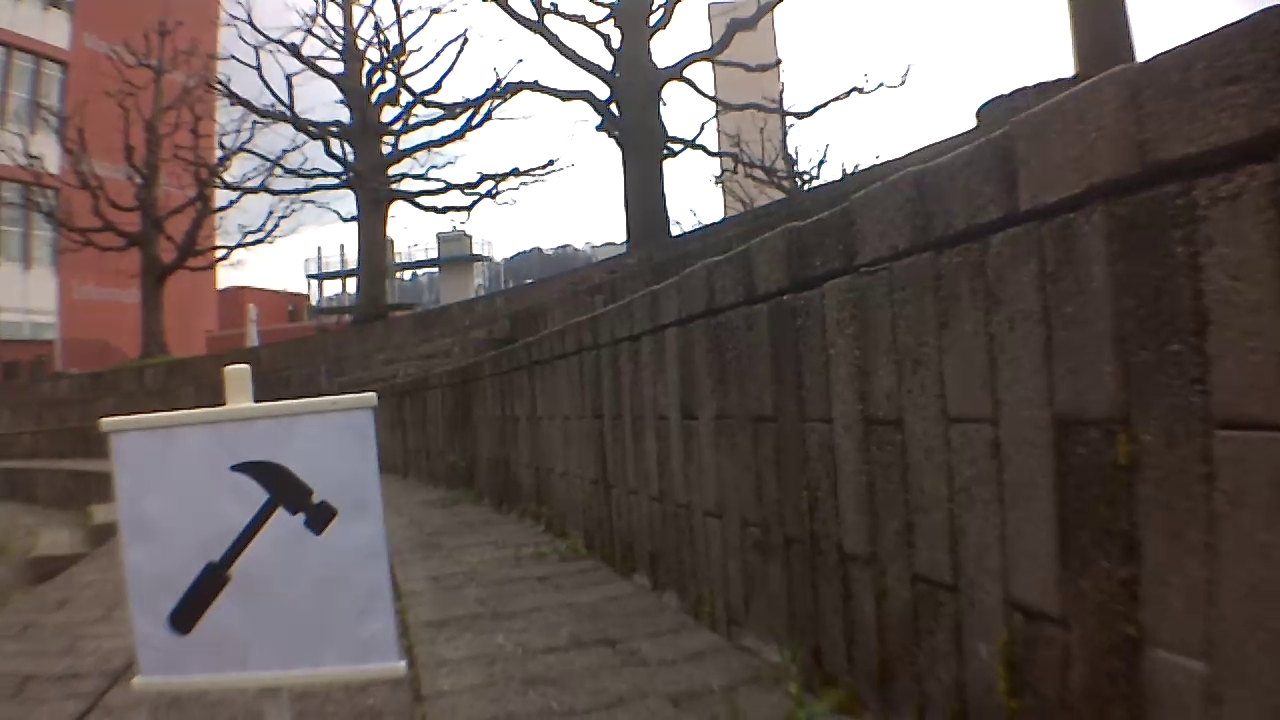hammer: (159, 443, 344, 646)
